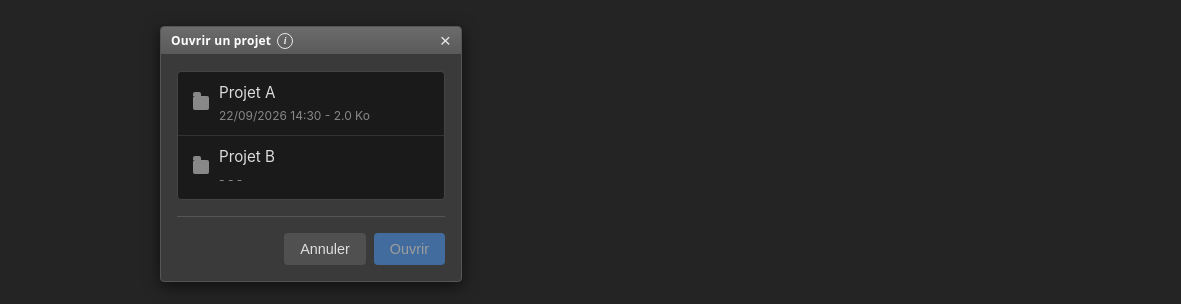
Test: ProjectOpenDialog — bouton info › le titre porte un bouton « i » dont l'infobulle met en garde
Expected: the text "Ouvrir un projet" is shown, [171,32,271,49]
Step 1. Hover over the picture "i" → (285, 40), box [277,32,293,48]
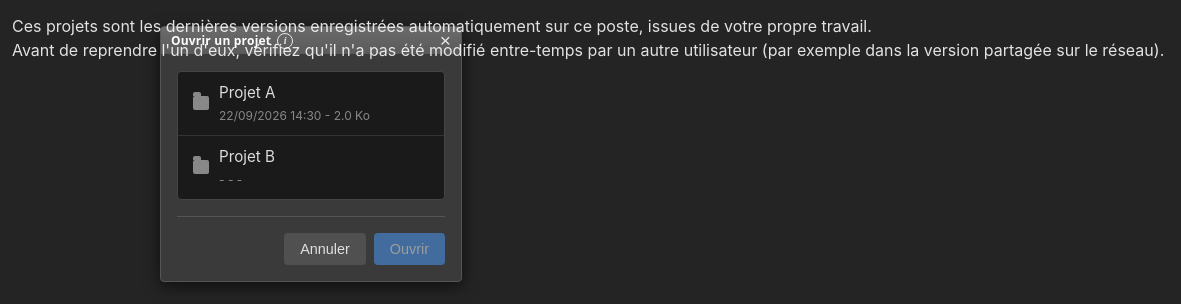
Now the text "dernières versions enregistrées automatiquement sur ce poste" is shown, box [12,16,872,36]
Now the text "modifié entre-temps par un autre utilisateur" is shown, box [12,40,1164,60]
